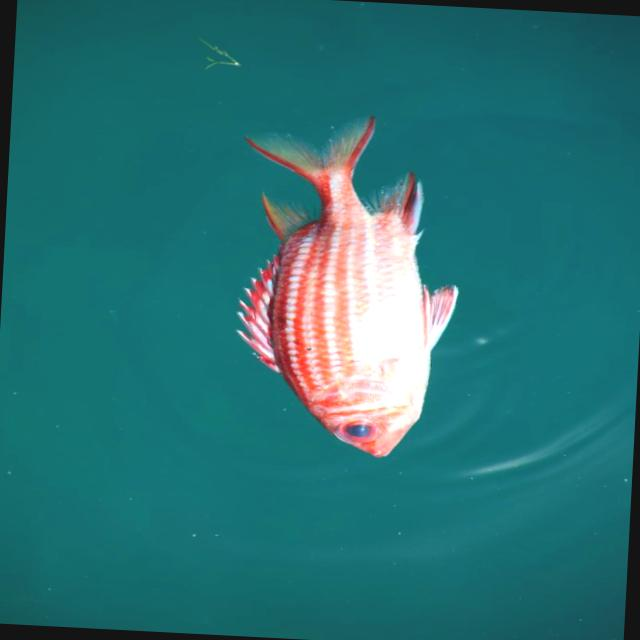Asker Baligi: (224, 110, 470, 462)
